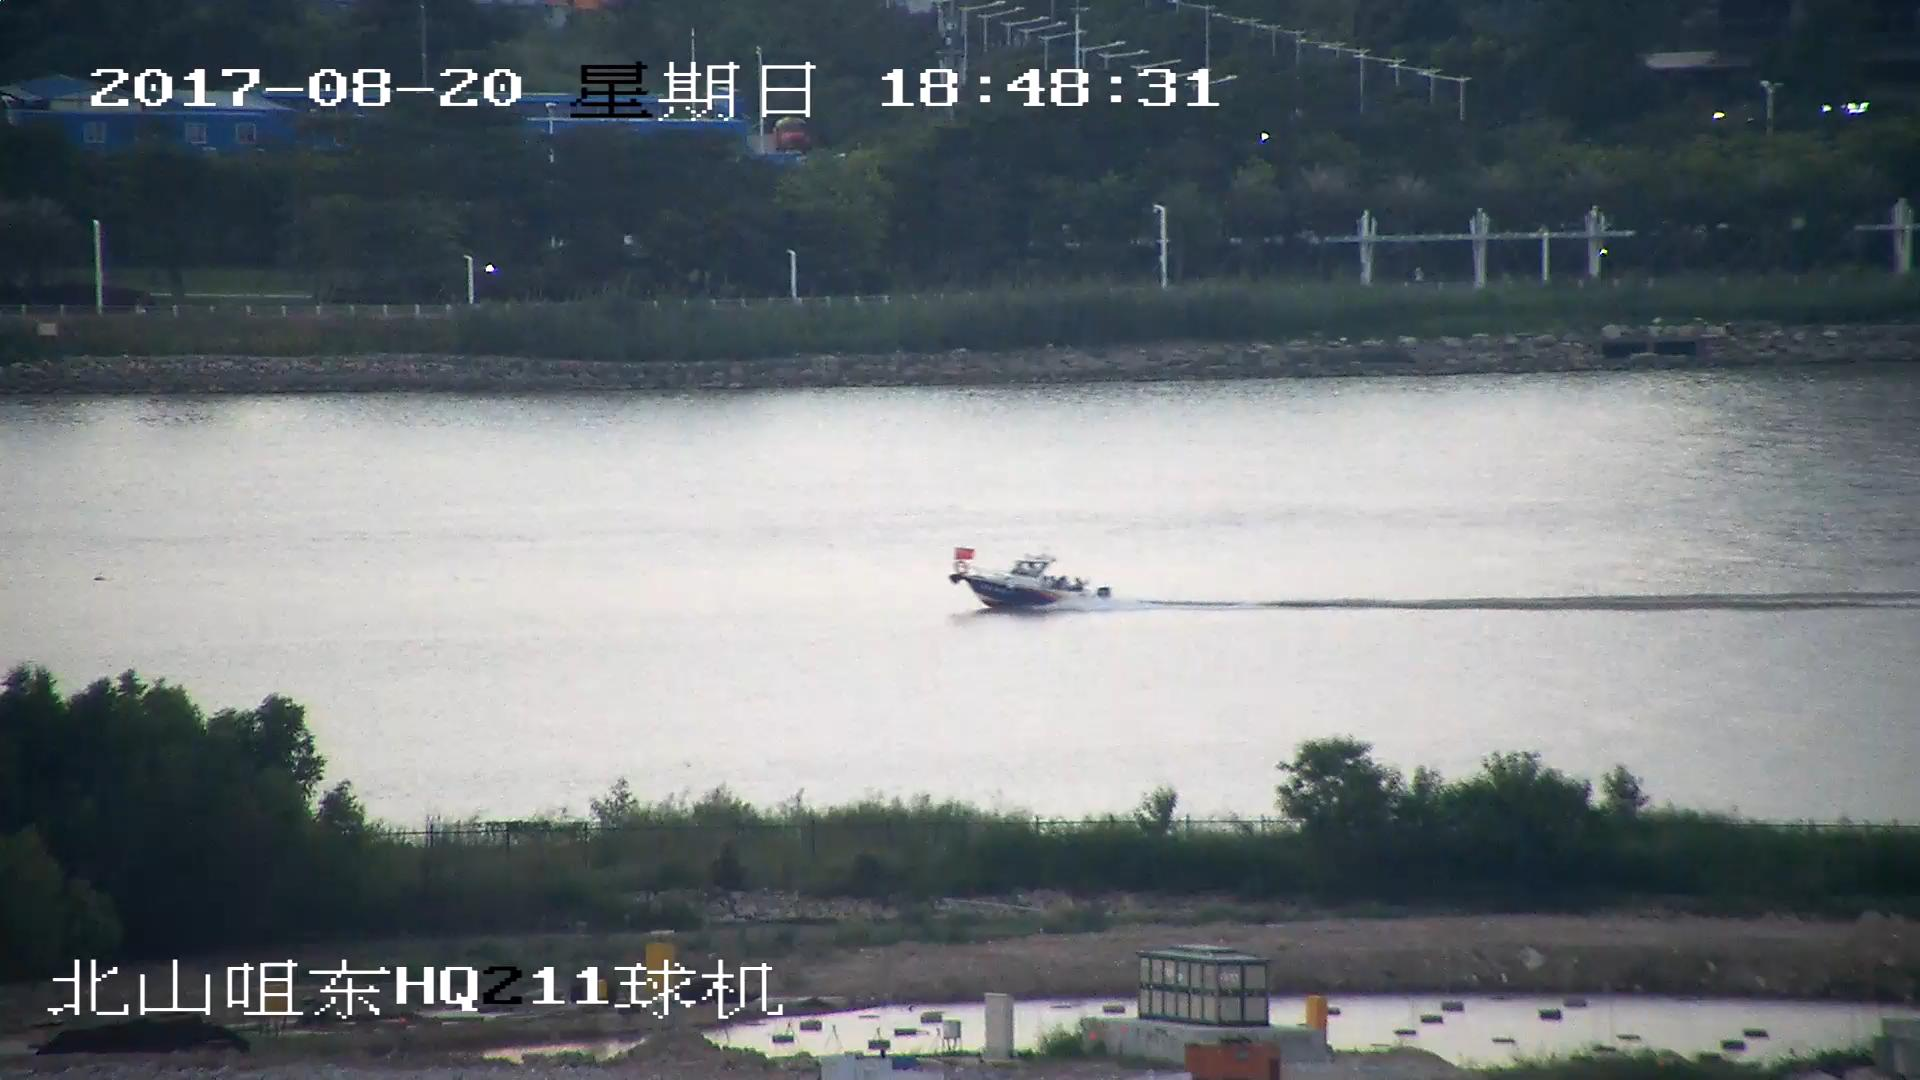passenger ship: (958, 548, 1119, 609)
